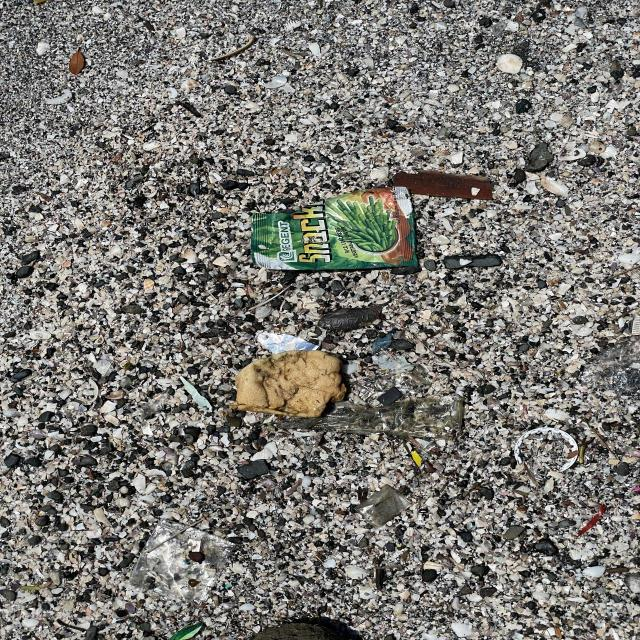litter: (252, 185, 422, 276)
